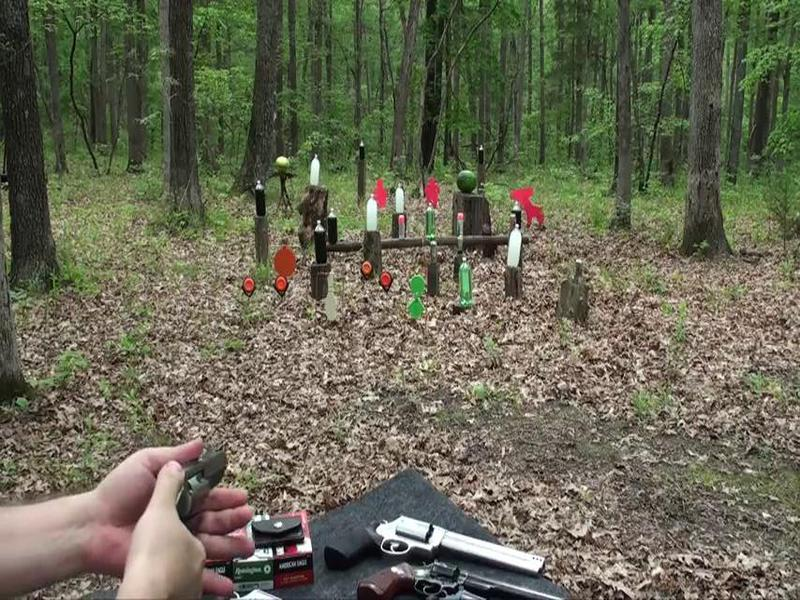Revolver: (91, 444, 241, 548)
